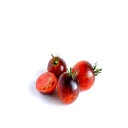tomato: (72, 60, 96, 90), (58, 72, 79, 104), (36, 72, 58, 92), (48, 56, 68, 75)
